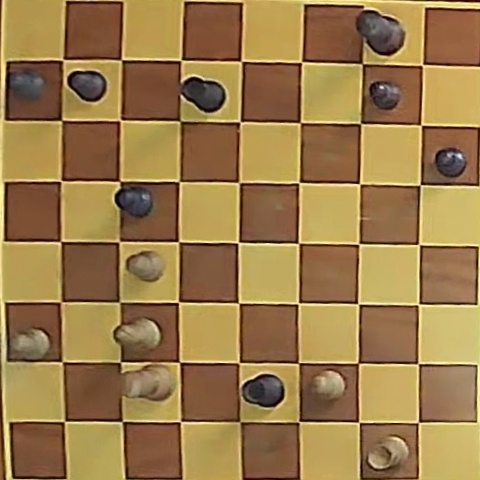black-king: (357, 9, 405, 55)
black-pawn: (68, 70, 107, 102), (115, 185, 153, 217), (9, 69, 46, 101), (434, 147, 467, 178), (370, 81, 401, 110)
black-rook: (181, 77, 225, 113), (242, 374, 285, 408)
white-bishop: (113, 318, 161, 353)
white-king: (124, 364, 174, 399)
white-pawn: (10, 328, 52, 360), (126, 250, 165, 281), (312, 370, 346, 400)
white-rook: (367, 436, 409, 471)
